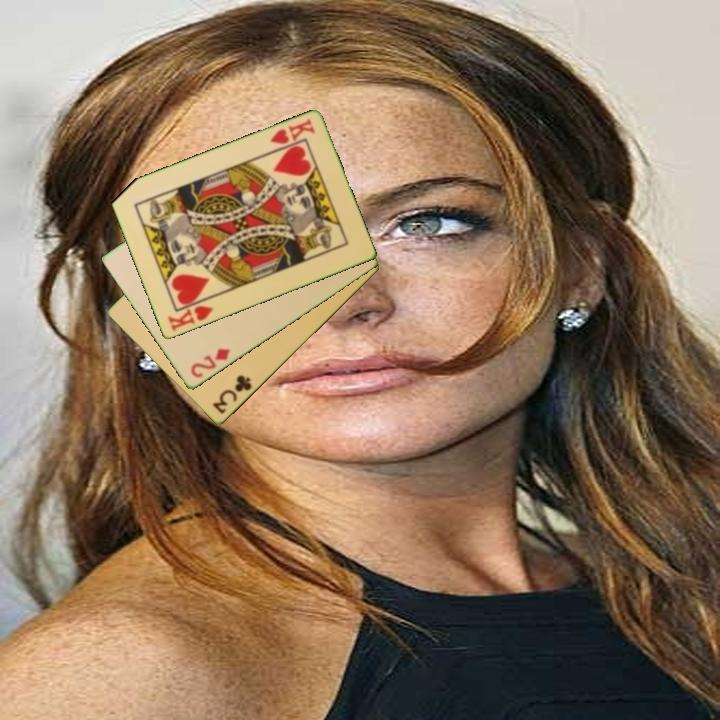2d: (187, 345, 233, 381)
3c: (209, 372, 255, 417)
Kh: (164, 295, 216, 334), (266, 115, 318, 148)
